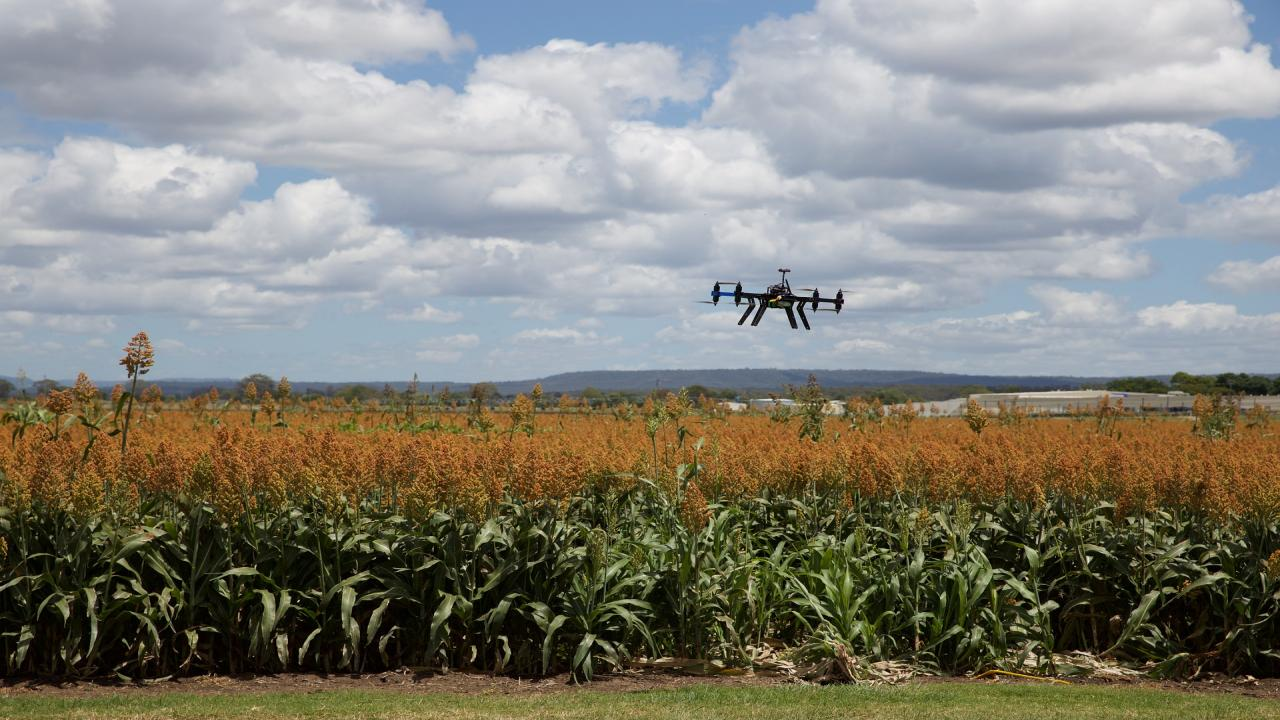Drone: (688, 253, 868, 341)
